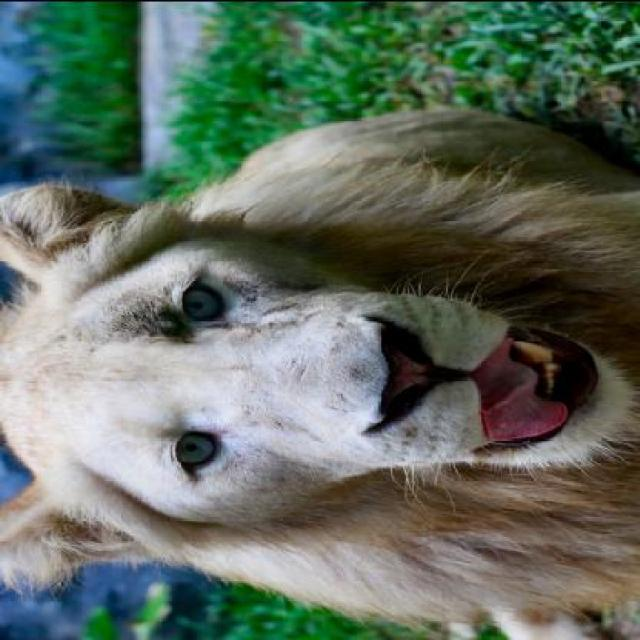Lion: (7, 60, 638, 620)
